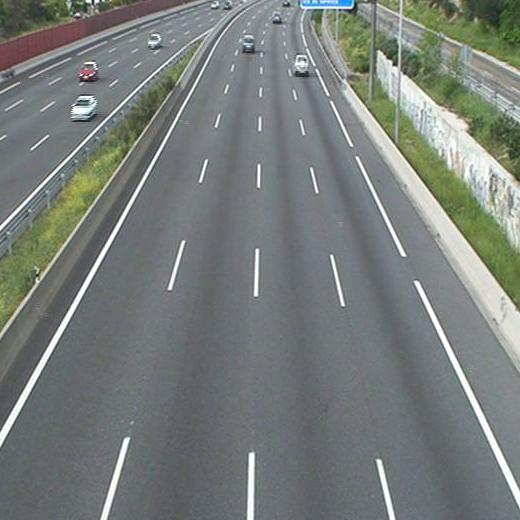car: (293, 56, 310, 74), (242, 34, 255, 50), (271, 12, 281, 21)
